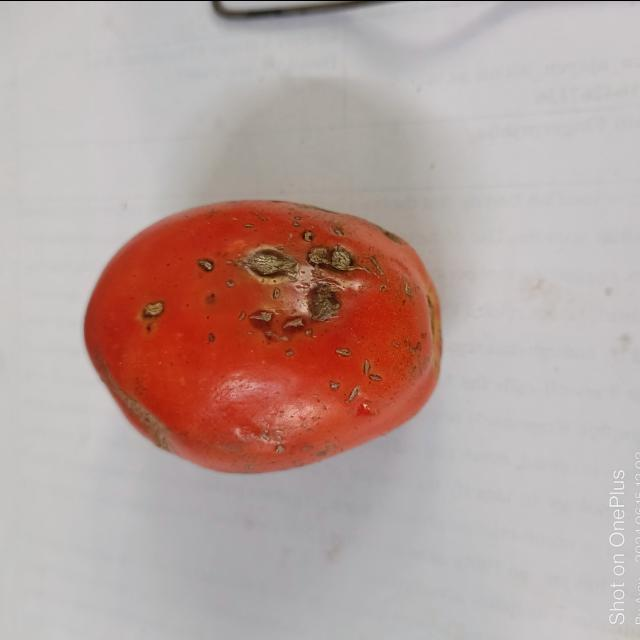Bacterial_Spot: (242, 244, 299, 286), (300, 278, 336, 322), (308, 248, 355, 270), (140, 297, 166, 327), (248, 304, 274, 326), (282, 318, 298, 342), (364, 359, 380, 381), (197, 256, 215, 272), (334, 346, 354, 358), (348, 382, 360, 402), (204, 328, 217, 344), (373, 258, 381, 276), (402, 282, 412, 295), (329, 380, 339, 390), (303, 232, 312, 240), (285, 349, 293, 355)
